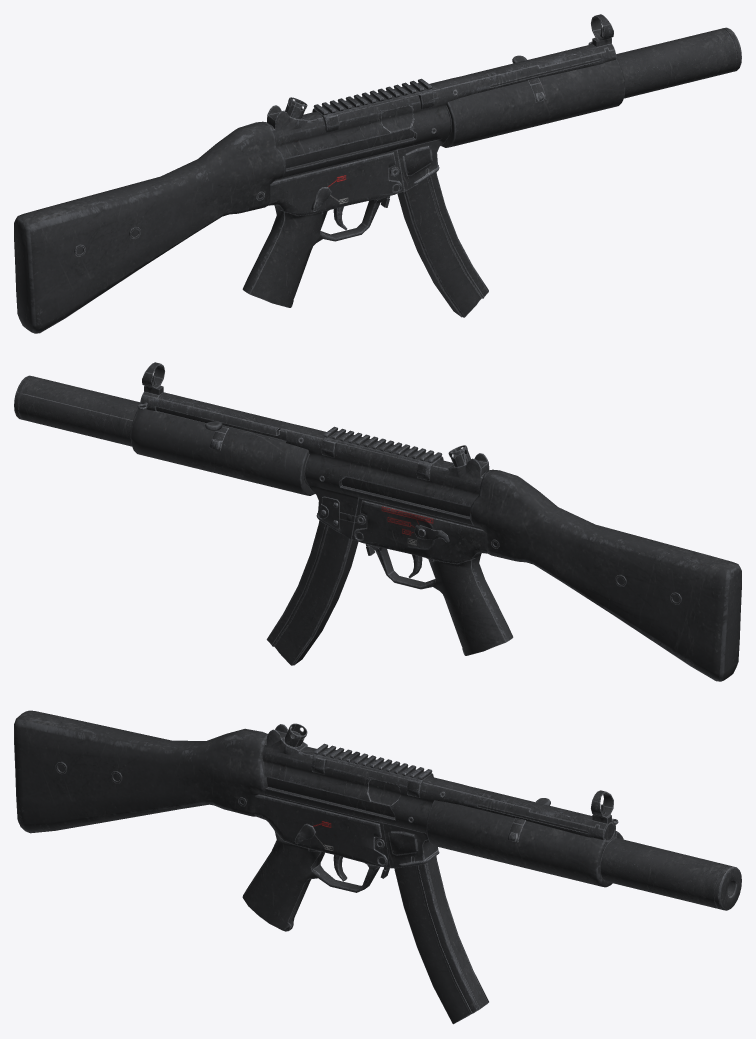
3 renders of one model, top to bottom at view 1: azimuth 30°, elevation 25°; view 2: azimuth 150°, elevation 25°; view 3: azimuth 330°, elevation 25°, orthographic.
Parts seen in each view (by area): view 1: MP5SD_Obj; view 2: MP5SD_Obj; view 3: MP5SD_Obj.
Boxes of the visible parts, x1=… form: MP5SD_Obj: x1=14, y1=14, x2=741, y2=333; MP5SD_Obj: x1=14, y1=362, x2=741, y2=681; MP5SD_Obj: x1=14, y1=710, x2=741, y2=1024.
Size of the model in its own units: 69.2 by 24.45 by 5.07.
2 materials, 2 textured.
